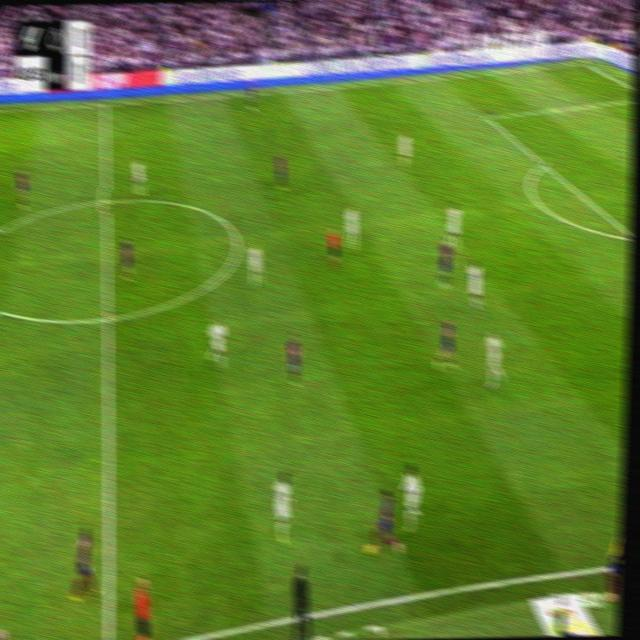bigarea_top_inner: (482, 108, 492, 124)
corner: (577, 57, 589, 67)
halfcircle_bottom: (100, 304, 116, 330)
halfcircle_top: (98, 188, 114, 212)
midline_top_intersection: (99, 96, 110, 110)
top_arc_area_intersection: (538, 155, 549, 171)
